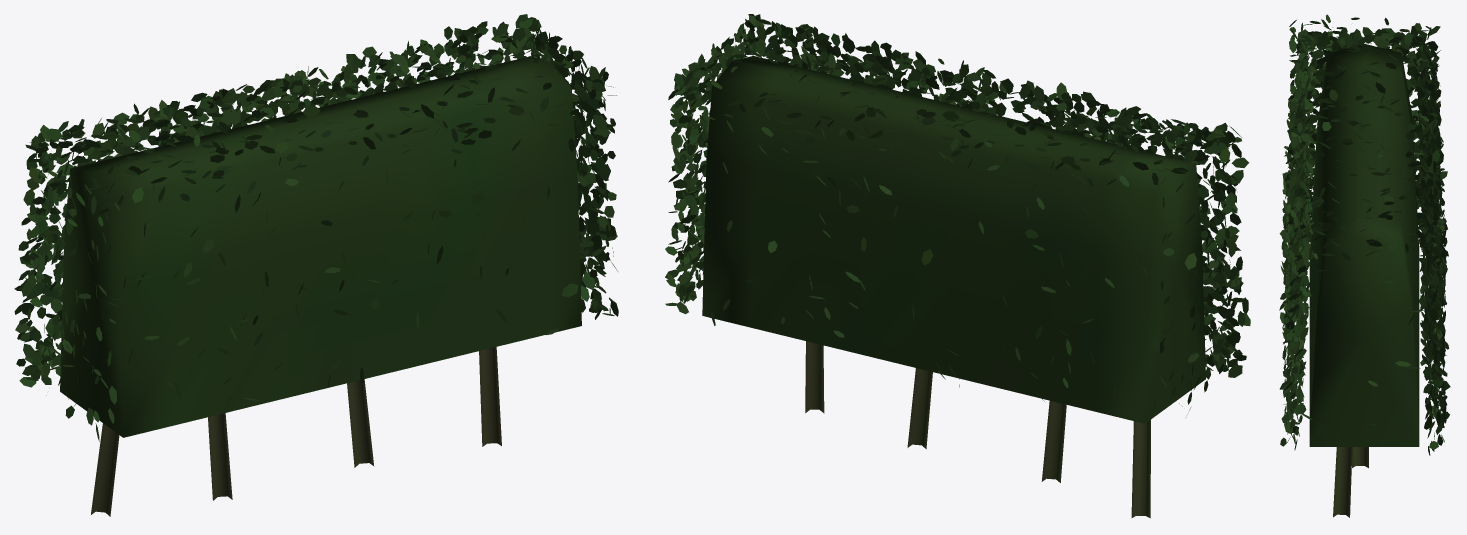
The model's file is SM_Tree_garden_hedge_3.glb.
The picture shows the model from 3 angles, left to right: view 1: azimuth 30°, elevation 25°; view 2: azimuth 150°, elevation 25°; view 3: azimuth 270°, elevation 25°; orthographic projection. The views are drawn at different scales.
Parts seen in each view (by area): view 1: SM_Tree_garden_hedge_3; view 2: SM_Tree_garden_hedge_3; view 3: SM_Tree_garden_hedge_3.
Part boxes in pixels (left/top/right/bottom): SM_Tree_garden_hedge_3: left=14, top=14, right=618, bottom=516; SM_Tree_garden_hedge_3: left=665, top=14, right=1250, bottom=518; SM_Tree_garden_hedge_3: left=1279, top=14, right=1450, bottom=517.
Size of the model in its own units: 1.54 by 1.08 by 0.506.
